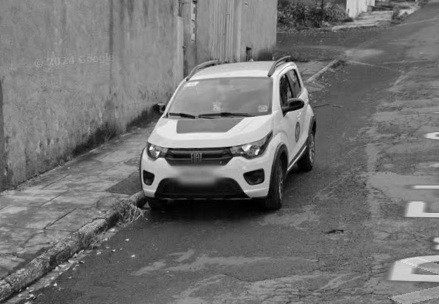car: (133, 51, 322, 218)
